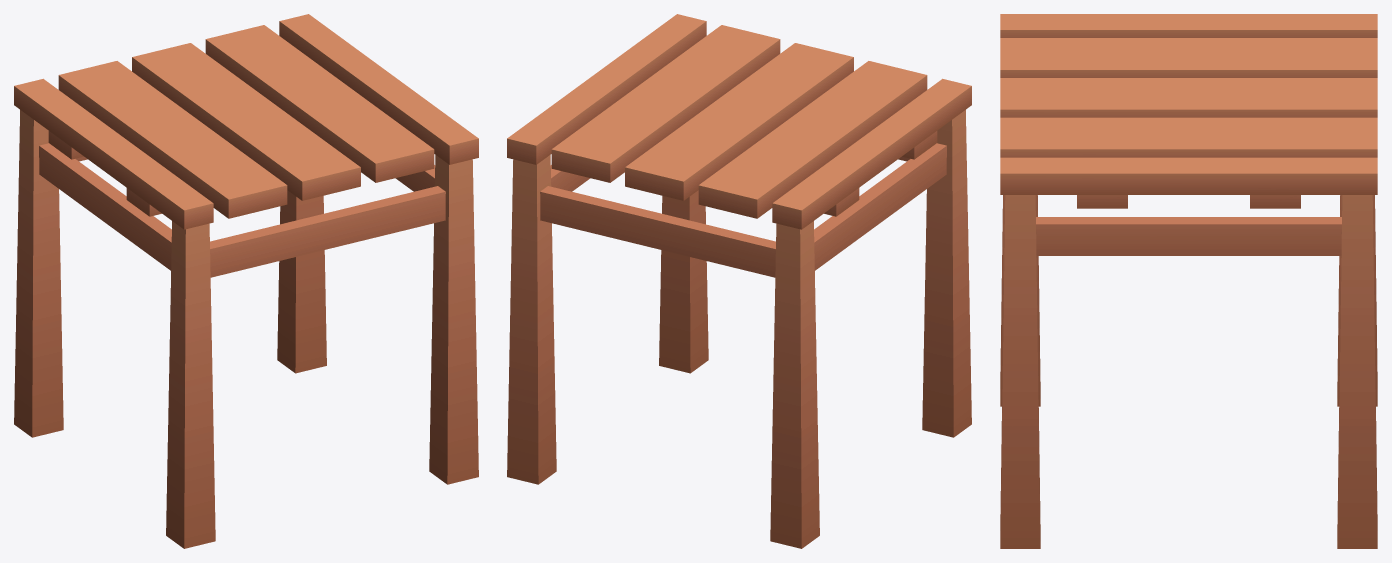
The model's file is structure-floor.glb.
The picture shows the model from 3 angles, left to right: view 1: azimuth 30°, elevation 25°; view 2: azimuth 150°, elevation 25°; view 3: azimuth 270°, elevation 25°; orthographic projection. The views are drawn at different scales.
Visible parts, largest first — view 1: structure-floor; view 2: structure-floor; view 3: structure-floor.
Part boxes in pixels (x1=…): structure-floor: x1=14, y1=14, x2=478, y2=548; structure-floor: x1=507, y1=14, x2=971, y2=548; structure-floor: x1=1000, y1=14, x2=1377, y2=548.
Size of the model in its own units: 0.5 by 0.5487 by 0.5.
1 material, 1 textured.
